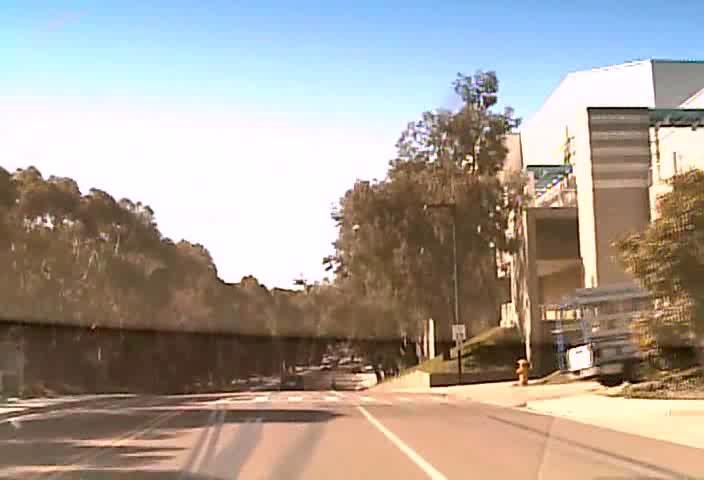speedLimitUrdbl: (451, 324, 466, 340)
